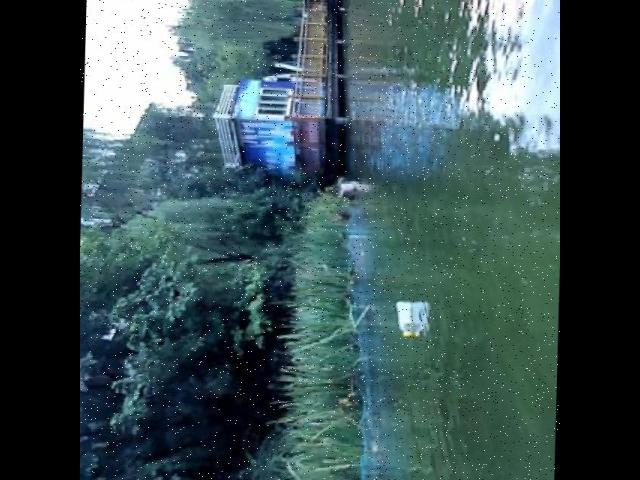Bottle: (390, 294, 420, 342)
